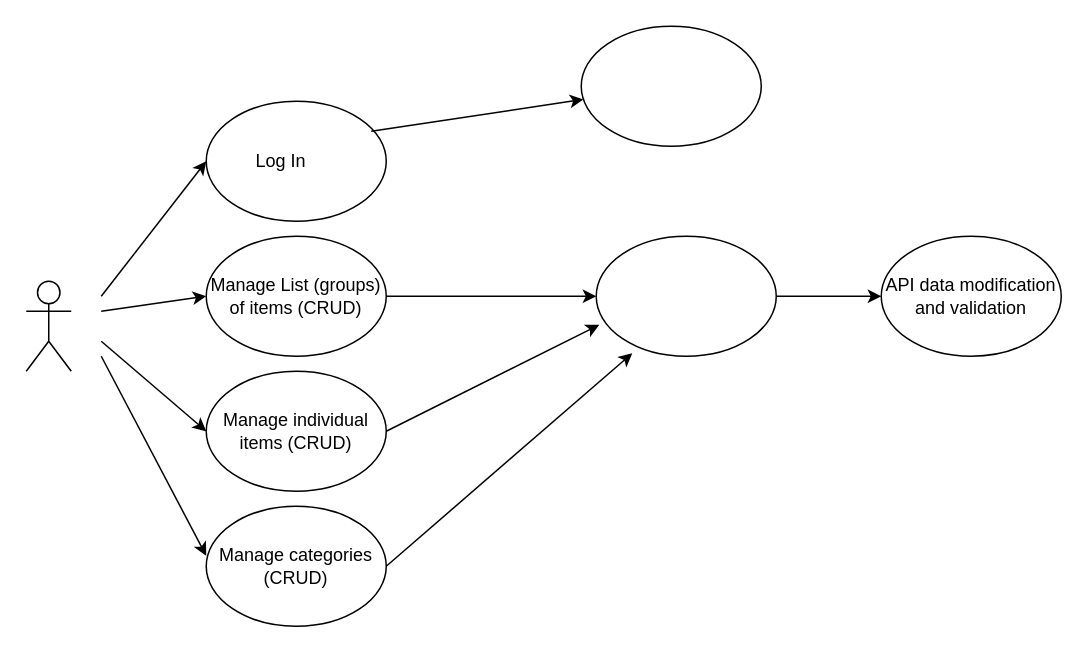
Image size: 1088x653. Some labels were removed from this diagram. The shapes that lost their labels are listed below. From the top down, each one's box as (x1, y1, x2, y2) in pixels, then its label:
(580, 25, 761, 146): Authentication service
(595, 235, 776, 356): API Query
(25, 280, 71, 371): User
